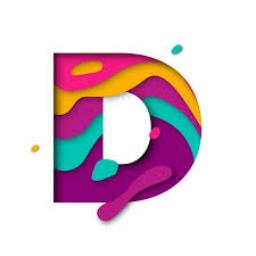d: (43, 40, 207, 218)
